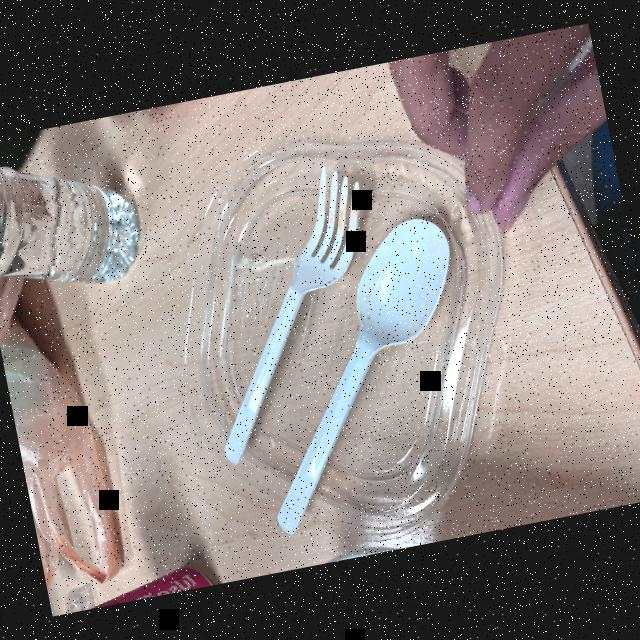plastic_spoon: (209, 200, 497, 551), (159, 155, 408, 465)
